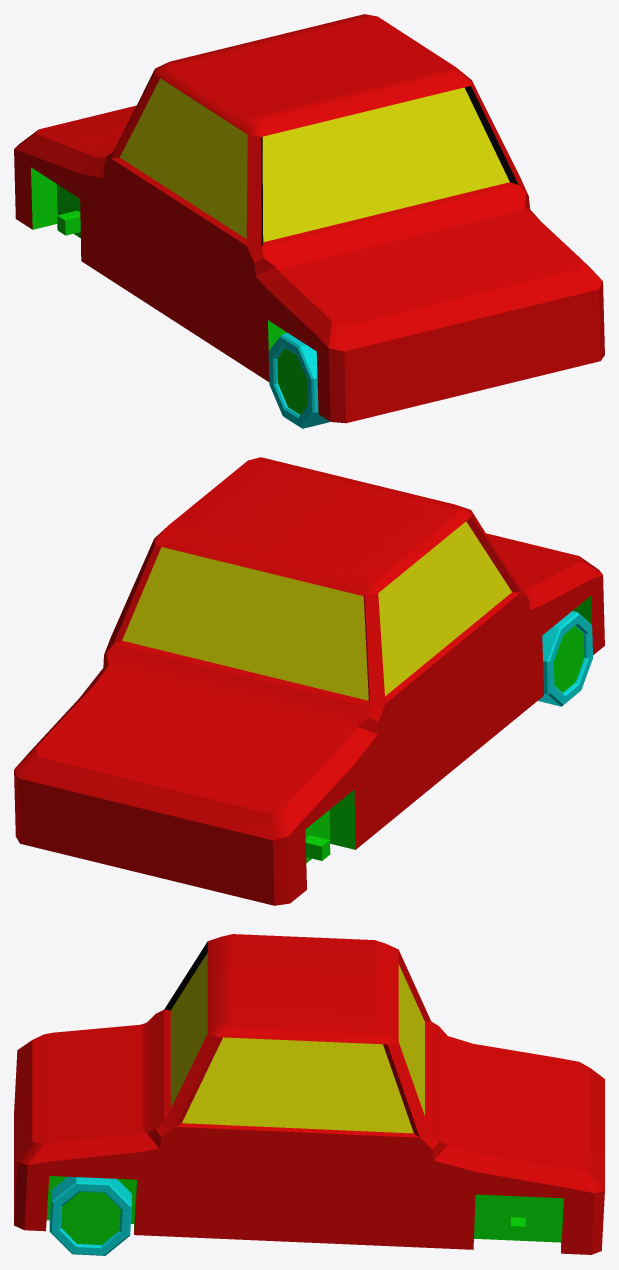
Rendered from WreckedCarF.fbx.
The picture shows the model from 3 angles, top to bottom: view 1: azimuth 30°, elevation 25°; view 2: azimuth 150°, elevation 25°; view 3: azimuth 270°, elevation 25°; orthographic projection. The views are drawn at different scales.
Visible parts, largest first — view 1: WreckedCarF; view 2: WreckedCarF; view 3: WreckedCarF.
Boxes of the visible parts, left/top/right/bottom form: WreckedCarF: left=14, top=14, right=604, bottom=428; WreckedCarF: left=14, top=457, right=604, bottom=905; WreckedCarF: left=14, top=934, right=604, bottom=1255.
Size of the model in its own units: 1.81 by 1.47 by 3.66.
